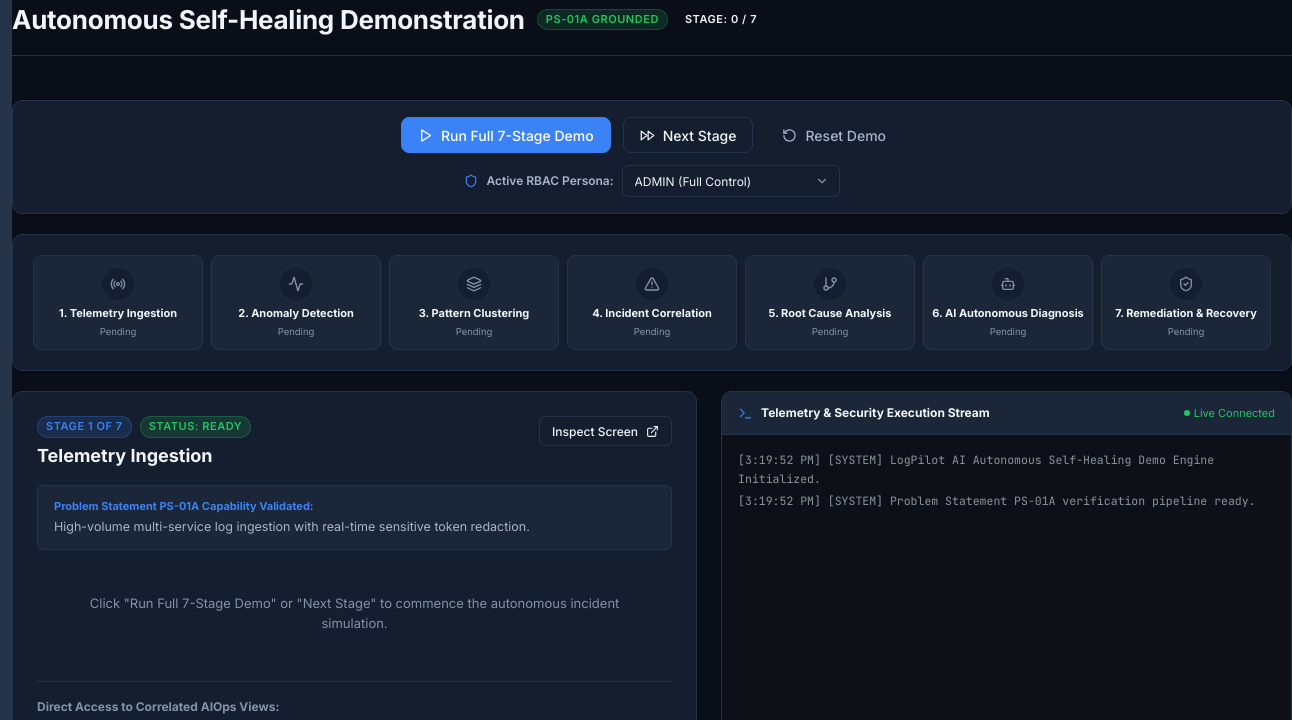
Scenario: Phase 15: 7-Stage Interactive Demonstration & RBAC Security › advances demo stage when clicking Next Stage button
Click the button "Next Stage".
click(688, 135)  # box [623, 117, 754, 153]
(page scrolled)
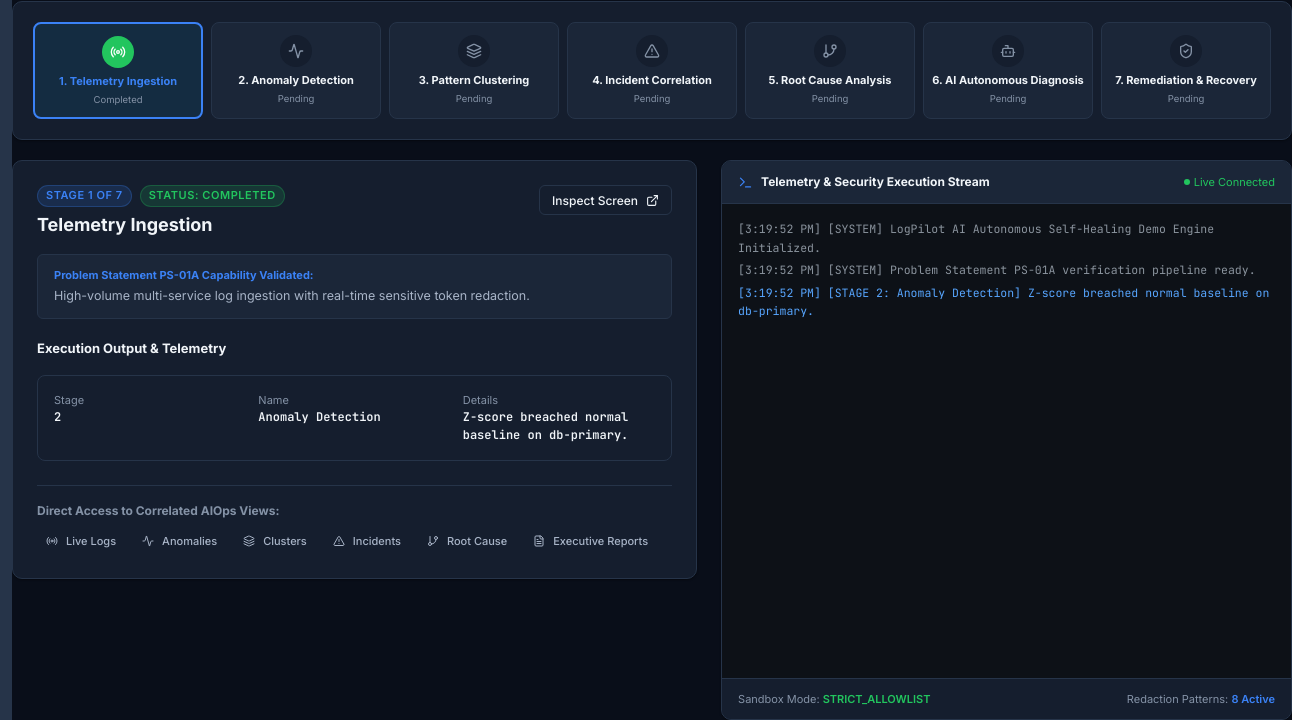
Now the text "Z-score breached normal baseline on db-primary." is shown, box [463, 408, 655, 444]
